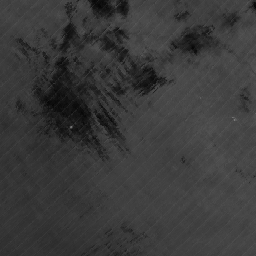Target: (68, 124, 74, 130)
